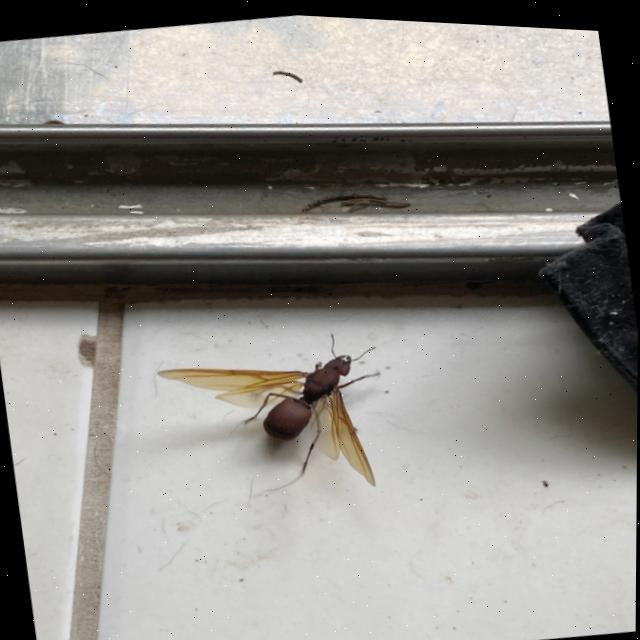Alive-Female-Alate: (150, 314, 399, 514)
